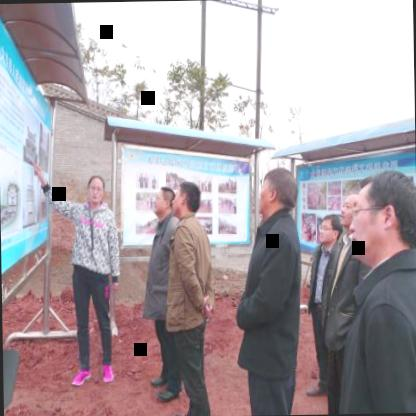head: (349, 165, 416, 269), (256, 165, 300, 231), (174, 178, 203, 222), (316, 208, 343, 251), (336, 190, 358, 234), (153, 180, 178, 216), (84, 170, 107, 206)
